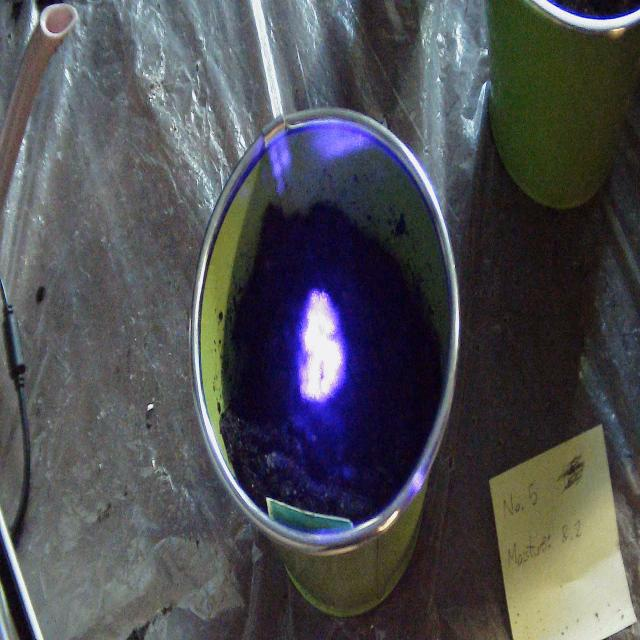soil-moisture-8.2: (292, 282, 352, 413)
